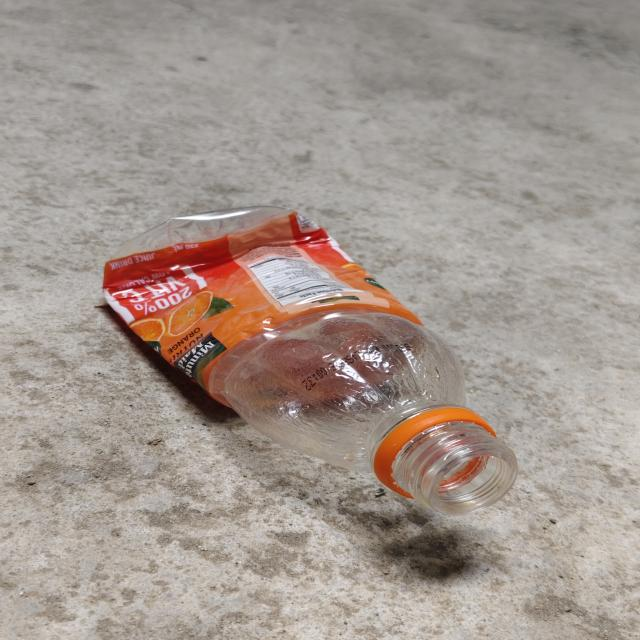Bottle: (103, 207, 518, 515)
